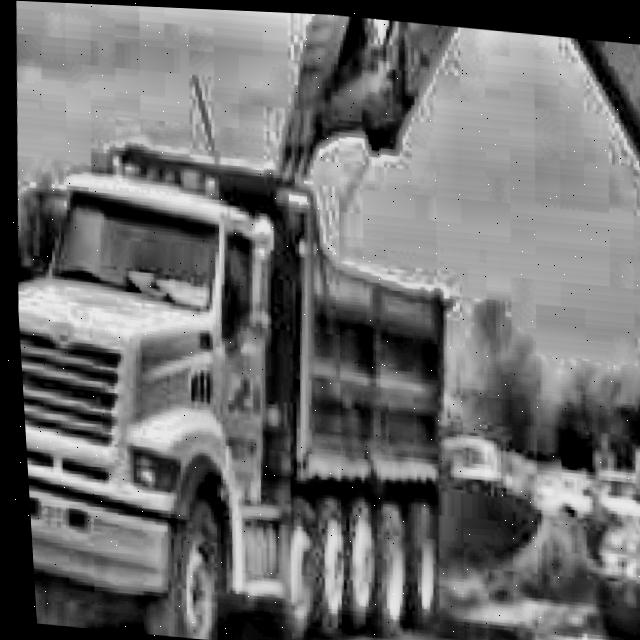dump_truck: (5, 100, 474, 640)
excavator: (242, 8, 640, 640)
